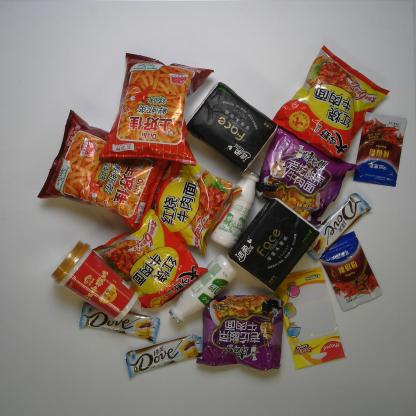Chocolate: (305, 192, 373, 262), (125, 333, 203, 378), (78, 302, 162, 343)
Instant Drink: (49, 239, 141, 322)
Instant Noodles: (272, 43, 392, 159), (91, 202, 209, 310), (255, 124, 361, 227), (151, 160, 244, 258), (195, 294, 286, 372)
Milk: (168, 253, 238, 325), (210, 169, 260, 249)
Puffed Food: (36, 108, 170, 232), (98, 51, 215, 168)
Seasoner: (319, 230, 384, 313), (352, 110, 407, 189)
Stationery: (274, 264, 348, 372)
Tissue: (226, 197, 323, 293), (184, 80, 280, 175)
